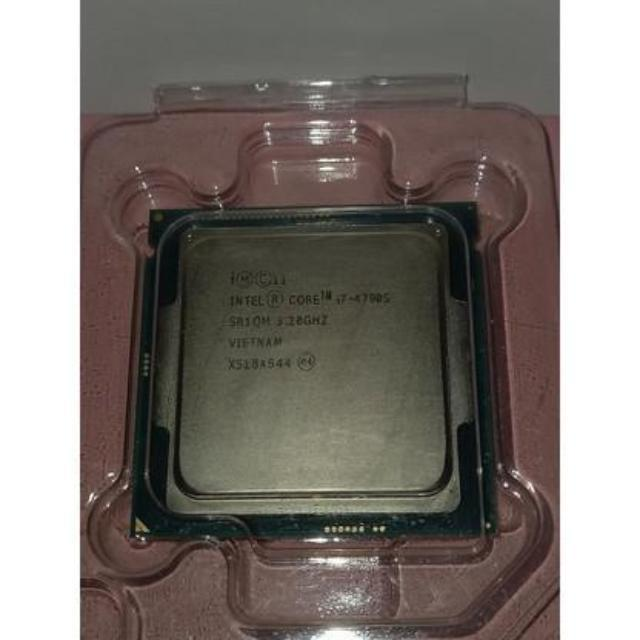CPU: (150, 210, 495, 538)
